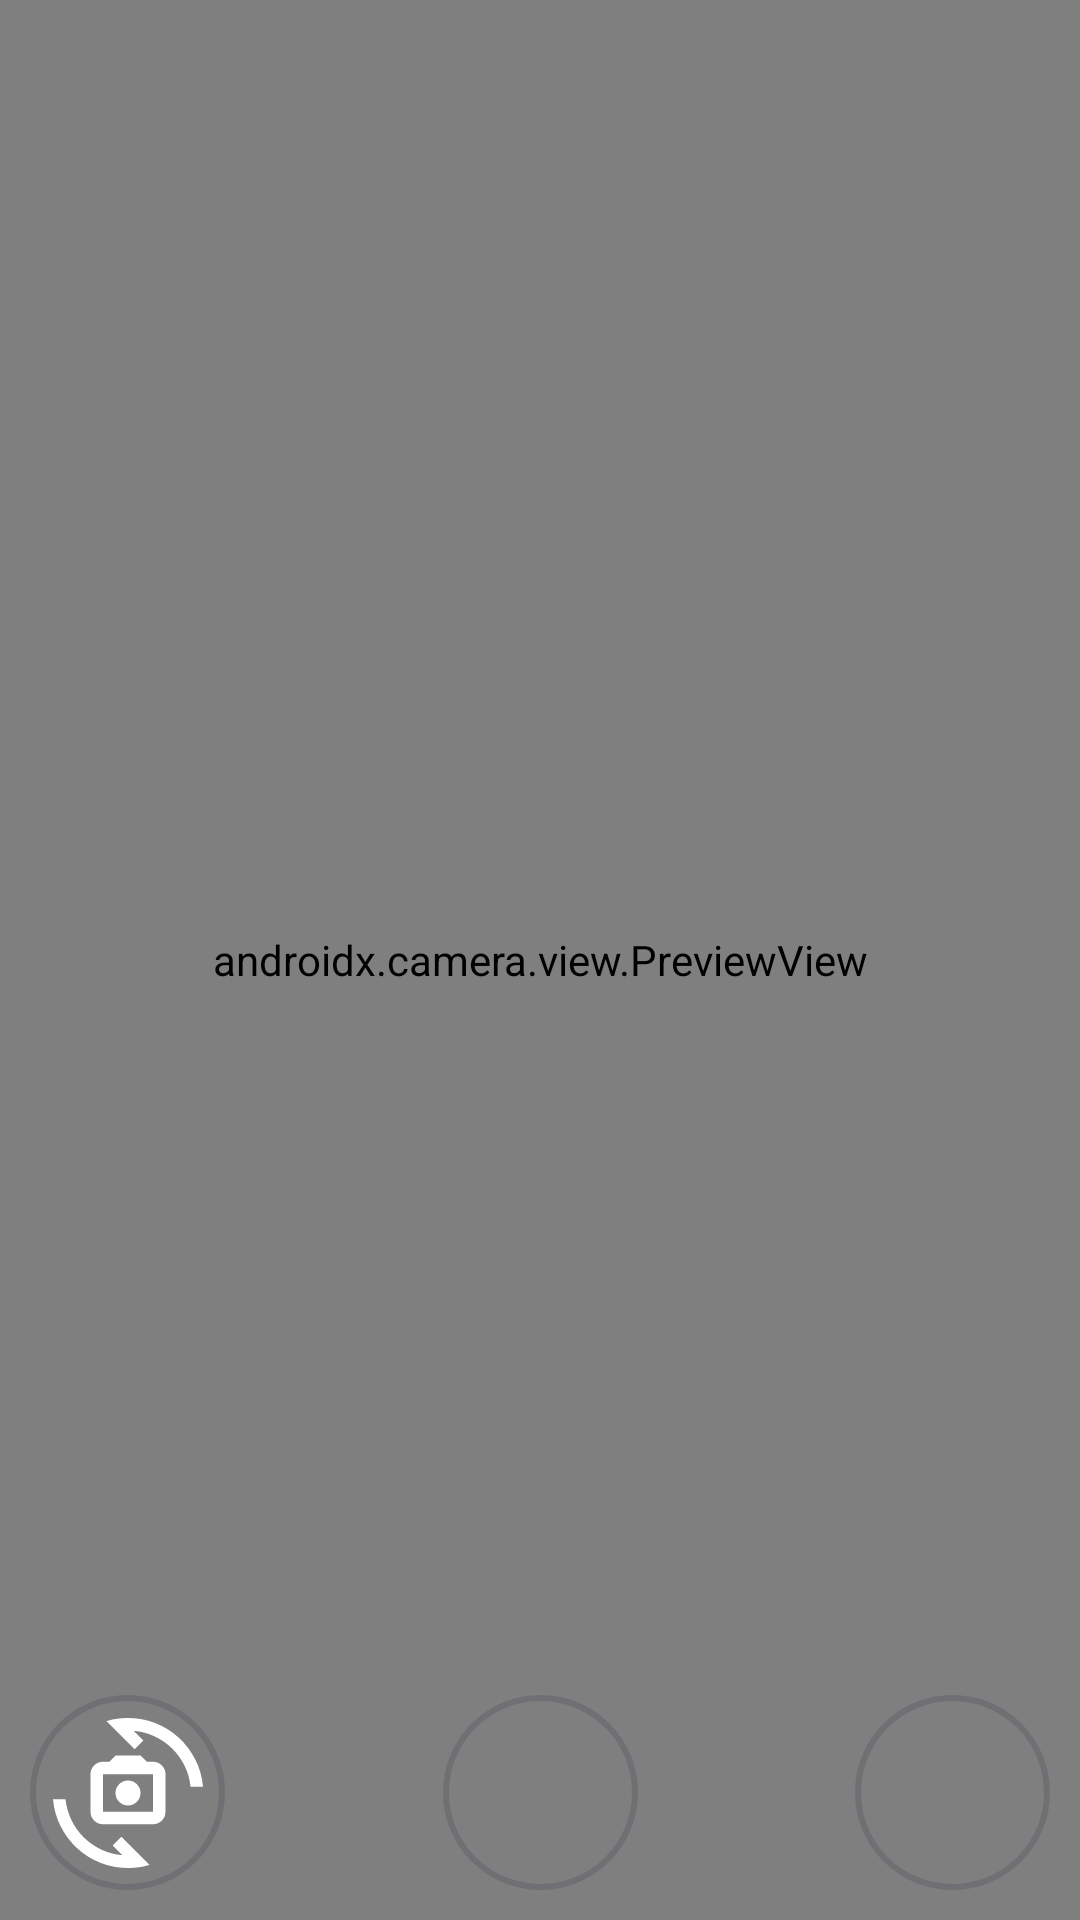

Screen size 1080px×1920px. Icon name, then its center in pixels as (x,y):
camera switchcam: (128,1793)
